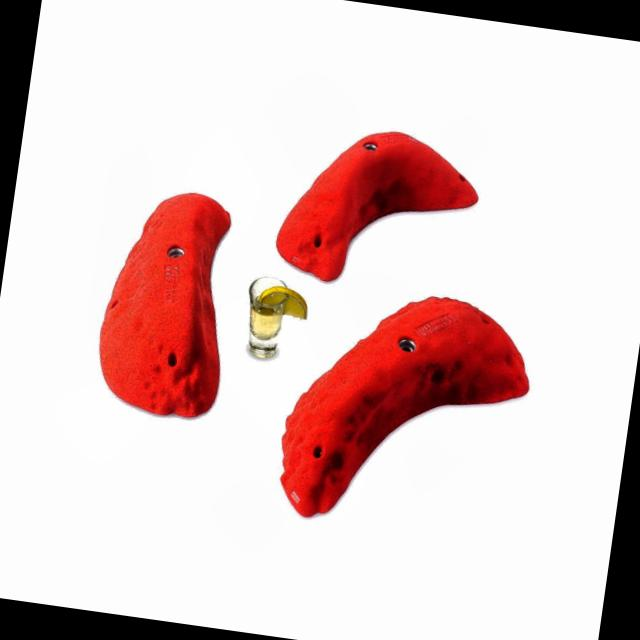Hold: (266, 281, 542, 550), (84, 175, 249, 428), (268, 116, 486, 298)
